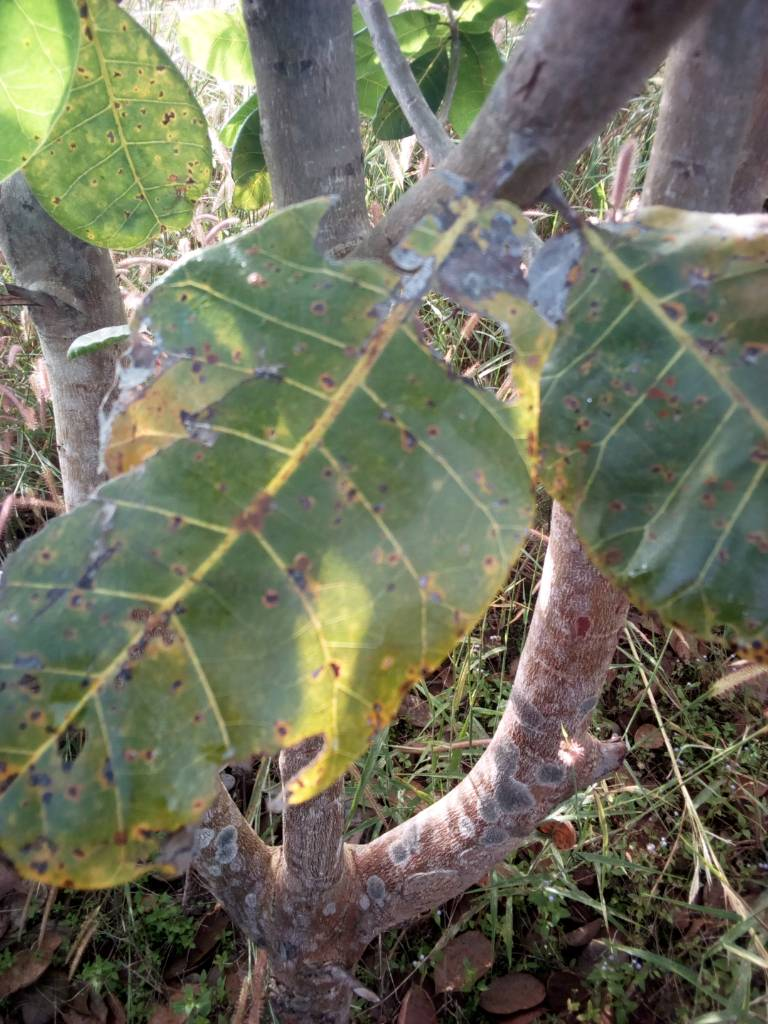Pestalotiose: (1, 325, 497, 877), (571, 246, 768, 630), (57, 1, 211, 250)
